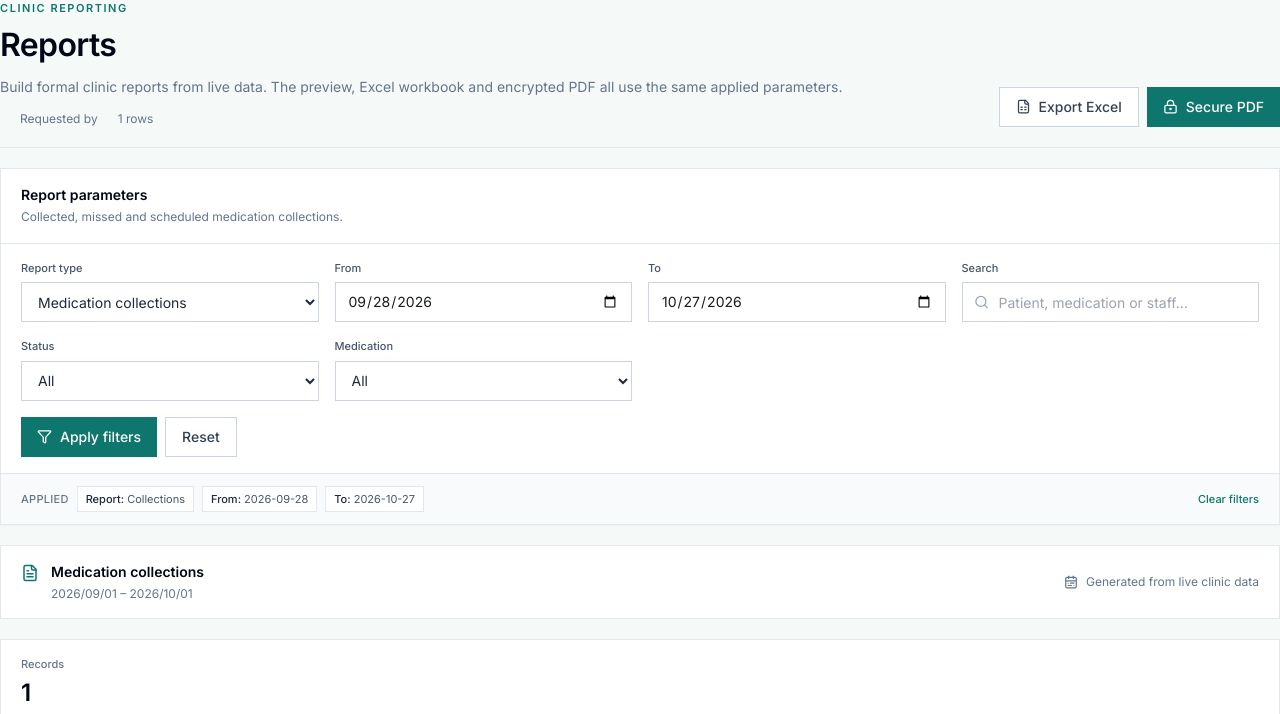
Test: AdminReportsPage › changes the report definition and rebuilds the preview
The image size is (1280, 714).
Select "Patients" in the dropdown labelled "Report type": (170, 302) [21,282,318,322]
(page scrolled)
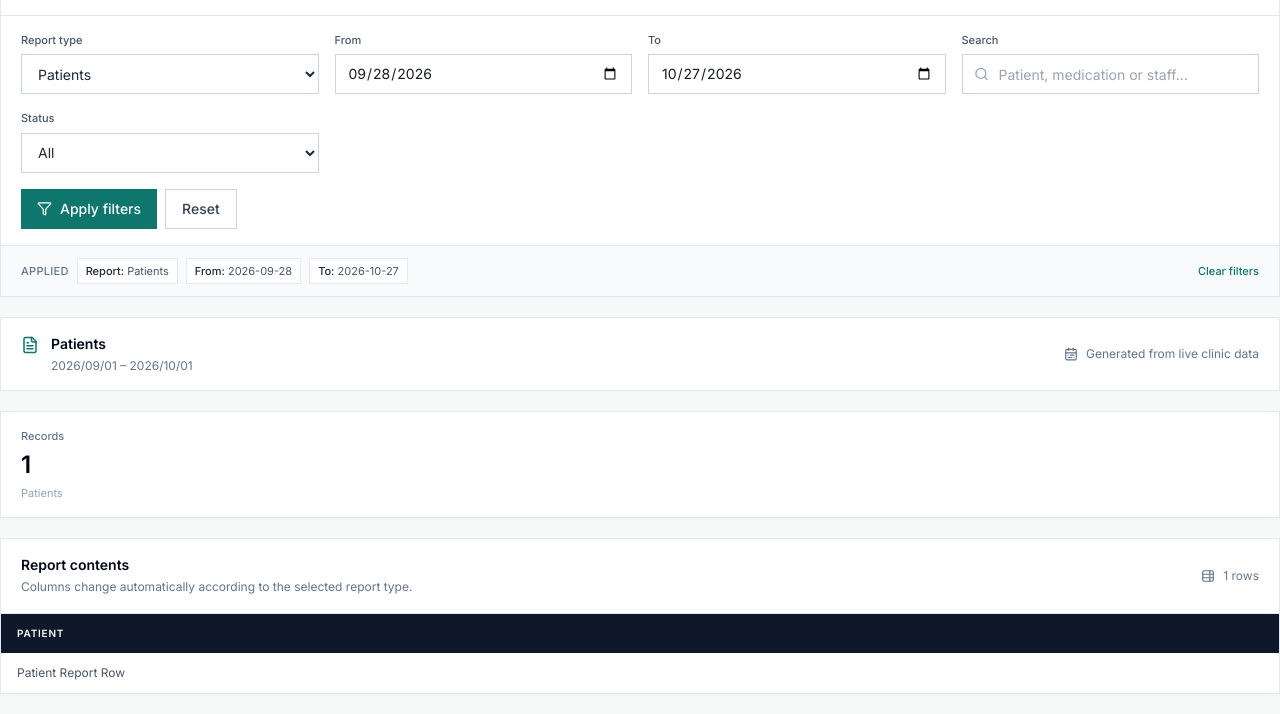
Result: the text "Patient Report Row" is shown at [17,665,125,680]
